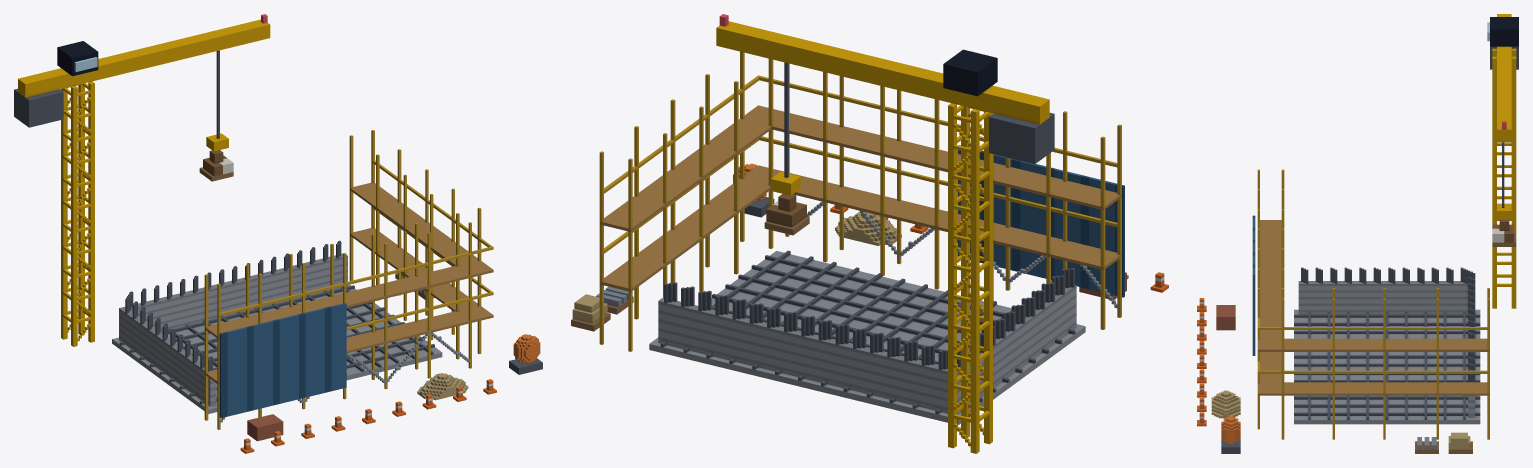
The model's file is control_scaffold.glb.
The picture shows the model from 3 angles, left to right: view 1: azimuth 30°, elevation 25°; view 2: azimuth 150°, elevation 25°; view 3: azimuth 270°, elevation 25°; orthographic projection. The views are drawn at different scales.
Visible parts, largest first — view 1: Base; view 2: Base; view 3: Base.
Part boxes in pixels (<box>): Base: <box>14,14,542,453</box>; Base: <box>571,14,1168,453</box>; Base: <box>1197,14,1518,453</box>.
Bounding box in the file's own units: 17.3 × 12.8 × 13.3.
